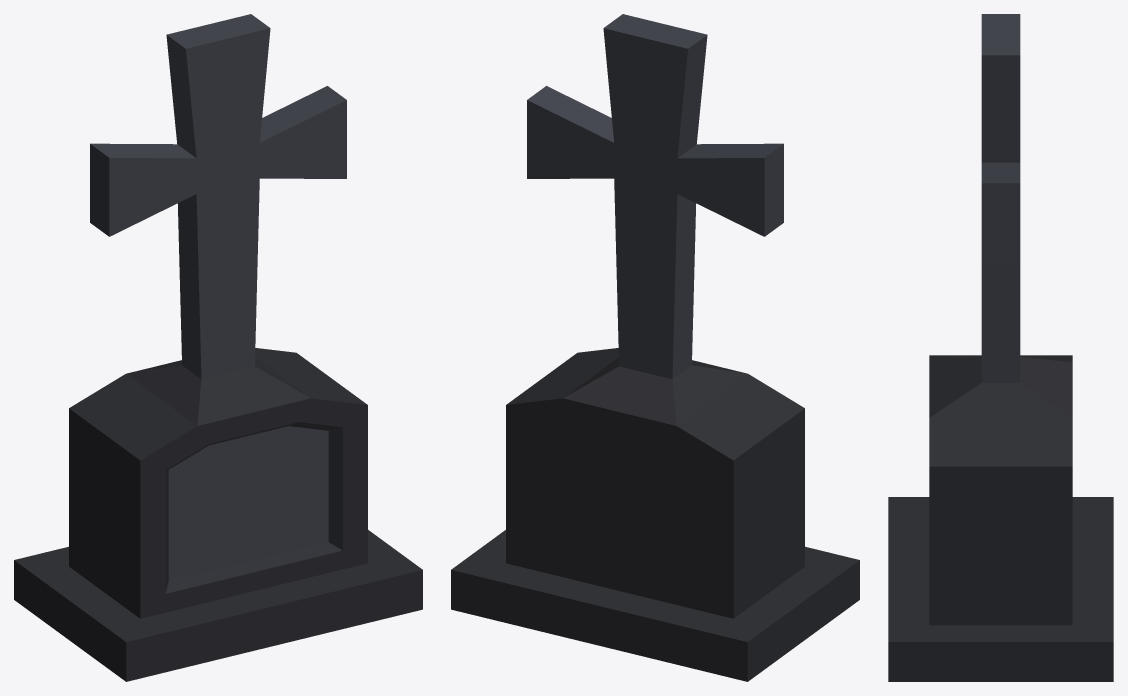
Rendered from Tumulo2.fbx.
3 views of the same model, side by side, from view 1: azimuth 30°, elevation 25°; view 2: azimuth 150°, elevation 25°; view 3: azimuth 270°, elevation 25° (orthographic).
Visible parts, largest first — view 1: Cube.286; view 2: Cube.286; view 3: Cube.286.
Boxes of the visible parts, left/top/right/bottom form: Cube.286: left=14, top=14, right=422, bottom=681; Cube.286: left=451, top=14, right=859, bottom=681; Cube.286: left=888, top=14, right=1113, bottom=681.
Bounding box in the file's own units: 107 × 198 × 70.31.
